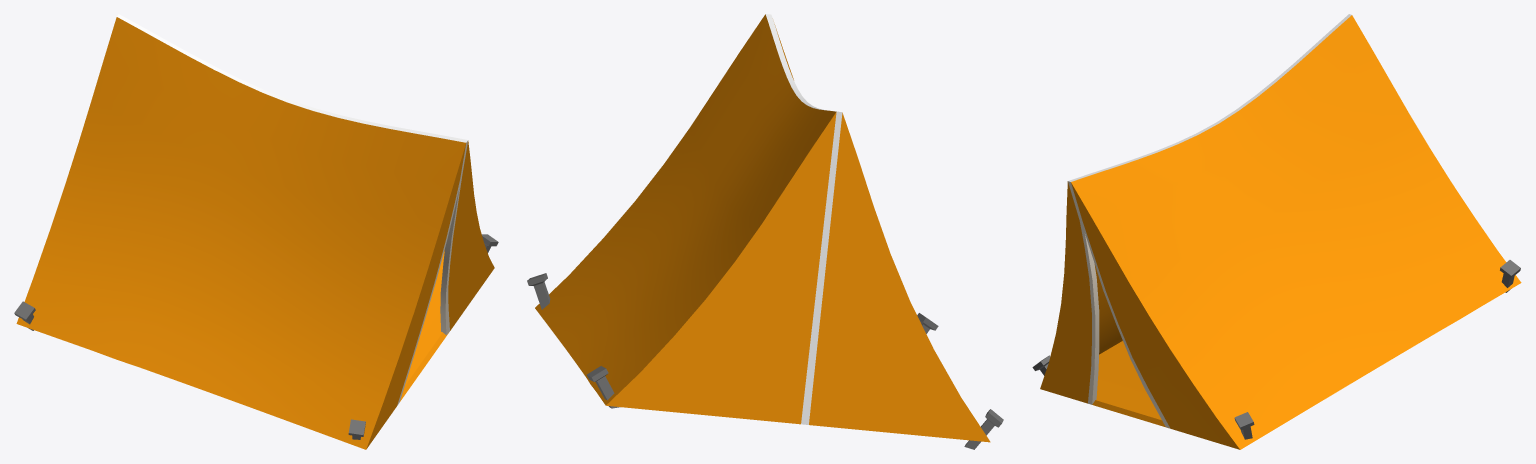
File: tent.gltf
The picture shows the model from 3 angles, left to right: view 1: azimuth 30°, elevation 25°; view 2: azimuth 150°, elevation 25°; view 3: azimuth 270°, elevation 25°; orthographic projection. The views are drawn at different scales.
Visible parts, largest first — view 1: Cube.509, Cube.510; view 2: Cube.509, Cube.510; view 3: Cube.509, Cube.510.
Boxes of the visible parts, box(x1,y1,x2,y2) form: Cube.509: box(16, 14, 494, 449); Cube.510: box(14, 234, 498, 439); Cube.509: box(535, 14, 990, 442); Cube.510: box(527, 273, 1003, 449); Cube.509: box(1040, 14, 1521, 449); Cube.510: box(1032, 260, 1520, 439).
Size of the model in its own units: 2.35 by 1.72 by 2.28.
Materials: 1 (1 with a texture image).
